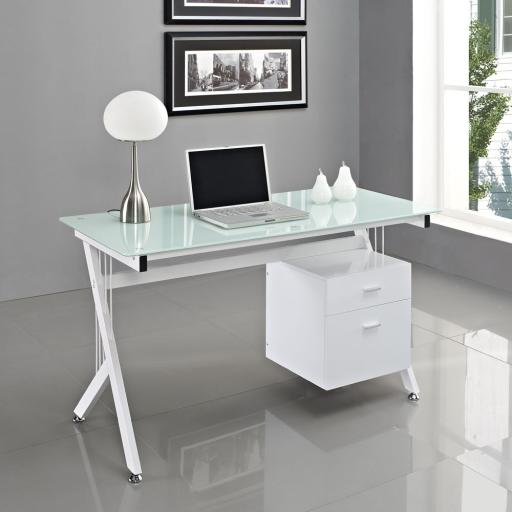desk: (58, 187, 442, 483)
wall: (0, 0, 359, 303), (359, 0, 512, 294)
